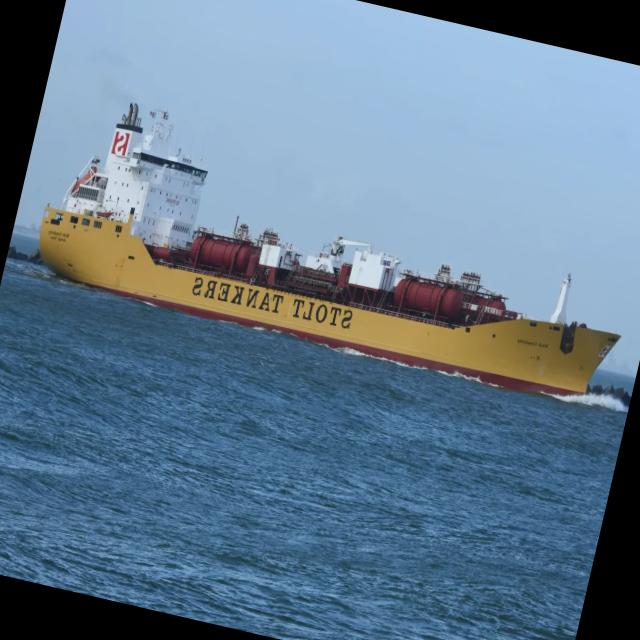Tanker: (40, 103, 620, 394)
